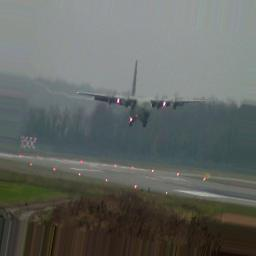Airplane: (73, 60, 207, 127)
